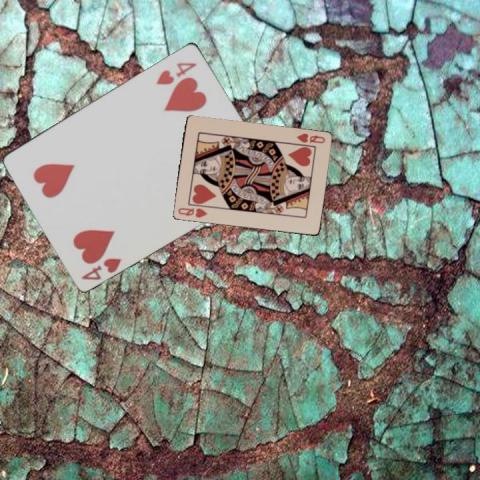4h: (153, 59, 198, 86), (79, 254, 123, 281)
Qh: (175, 205, 208, 219), (293, 130, 326, 144)
